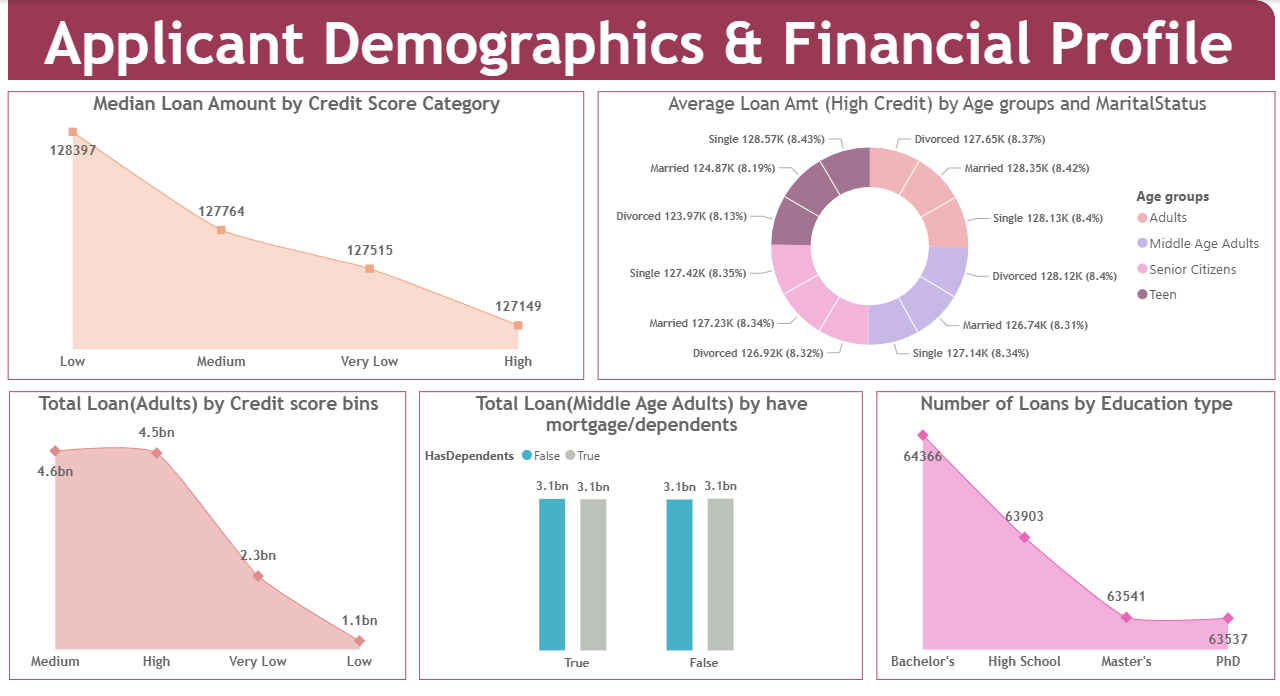

The dashboard page shown, as its layout file describes it:
{"tool":"powerbi","page":{"name":"Applicant Demographics &  Financial Profile","canvas":[1280,720],"ordinal":1},"visuals":[{"type":"shape","box":[8.7,0,1261.4,79.6],"z":0},{"type":"lineChart","title":"Median Loan Amount by Credit Score Category","fields":{"Y":["Measures Table2.Mean by Credit score bins"],"Category":["Loan_default.Credit Score Bins"]},"box":[8.7,90.8,573.5,287.4],"z":1000},{"type":"donutChart","title":"Average Loan Amt (High Credit) by Age groups and MaritalStatus","fields":{"Y":["Measures Table2.Average Loan Amt (High Credit)"],"Category":["Loan_default.Age groups"],"Series":["Loan_default.MaritalStatus"]},"box":[595.9,90.8,674.2,287.4],"z":2000},{"type":"lineChart","title":"Total Loan(Adults) by Credit score bins","fields":{"Category":["Loan_default.Credit Score Bins"],"Y":["Measures Table2.Total Loan (Credit Bins)"]},"box":[10,389.4,395.6,287.4],"z":3000},{"type":"clusteredColumnChart","title":"Total Loan(Middle Age Adults) by have mortgage/dependents","fields":{"Y":["Measures Table2.Total loan(Middle Age Adults)"],"Category":["Loan_default.HasMortgage"],"Series":["Loan_default.HasDependents"]},"box":[418,389.4,441.6,287.4],"z":4000},{"type":"lineChart","title":"Number of Loans by Education type","fields":{"Y":["Measures Table2.Loans by Education Type"],"Category":["Loan_default.Education"]},"box":[873.3,389.4,396.8,287.4],"z":5000}]}

Visuals, with their boxes on the page's 1280x720 design canvas (x1, y1, x2, y2). These are canvas units, not pixel positions in the 1280x696 screenshot, which may show the page scaled, cropped or inside an application window:
shape: <bbox>9, 0, 1270, 80</bbox>
"Median Loan Amount by Credit Score Category" lineChart: <bbox>9, 91, 582, 378</bbox>
"Average Loan Amt (High Credit) by Age groups and MaritalStatus" donutChart: <bbox>596, 91, 1270, 378</bbox>
"Total Loan(Adults) by Credit score bins" lineChart: <bbox>10, 389, 406, 677</bbox>
"Total Loan(Middle Age Adults) by have mortgage/dependents" clusteredColumnChart: <bbox>418, 389, 860, 677</bbox>
"Number of Loans by Education type" lineChart: <bbox>873, 389, 1270, 677</bbox>
